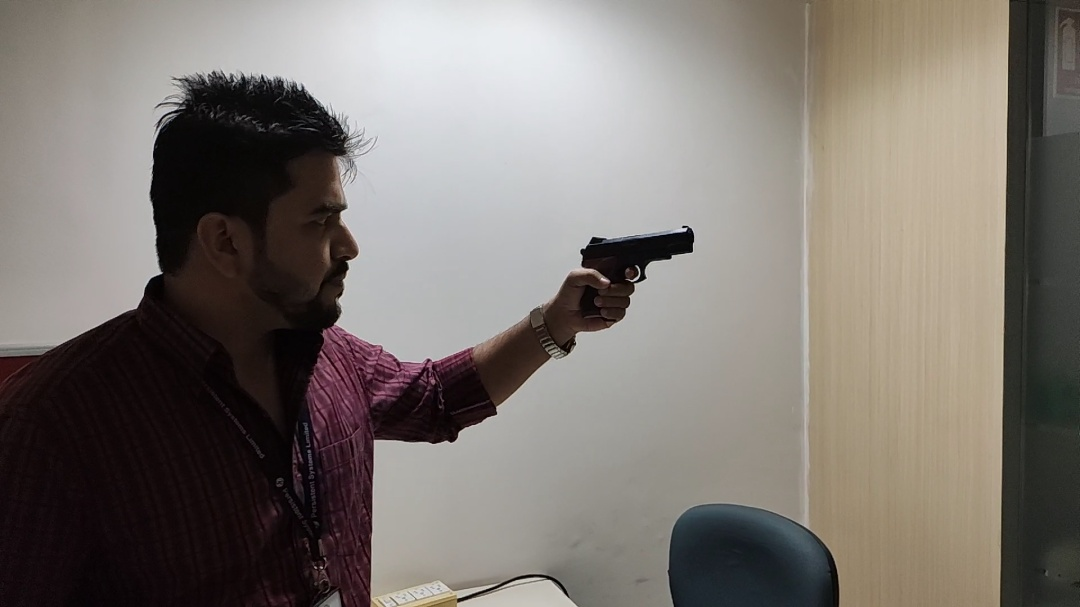gun: (575, 222, 698, 330)
